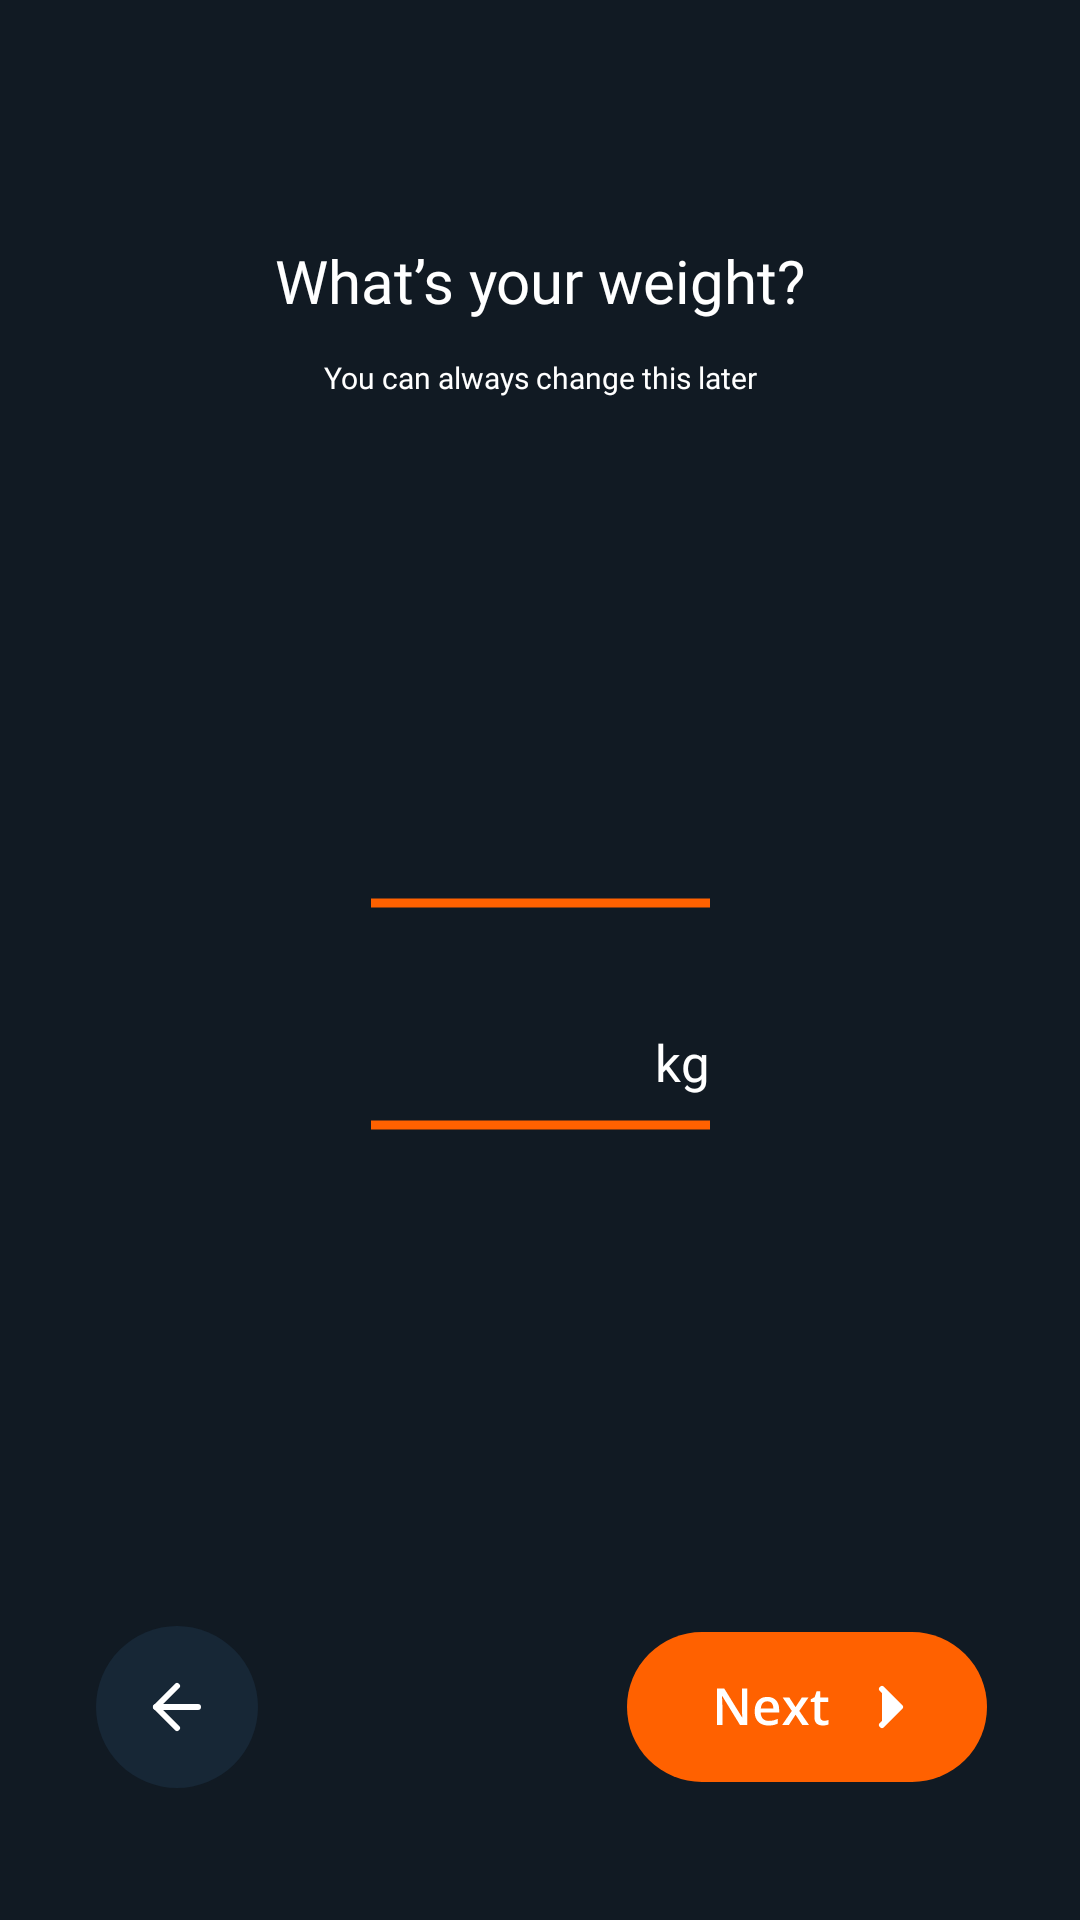

Screen size 1080px x 1920px. Icon name, then its center in pixels as point (x, y):
back: point (177, 1707)
